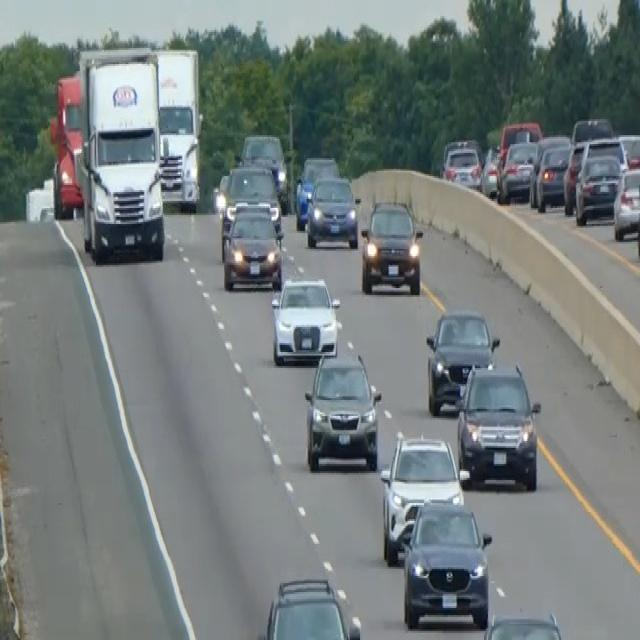car: (401, 498, 492, 629), (379, 428, 464, 564), (455, 359, 541, 491), (303, 349, 381, 471), (425, 306, 499, 416), (262, 574, 362, 638), (270, 274, 340, 364), (360, 196, 423, 295), (218, 162, 282, 254), (222, 205, 283, 292), (305, 172, 360, 249), (238, 132, 289, 204), (574, 151, 621, 226), (294, 153, 339, 229), (529, 140, 572, 212), (496, 138, 539, 202), (497, 119, 542, 171), (482, 610, 564, 638), (612, 164, 639, 240), (442, 140, 482, 188), (570, 114, 614, 144), (479, 146, 500, 197), (616, 132, 639, 167)
lorry: (76, 46, 166, 263)
